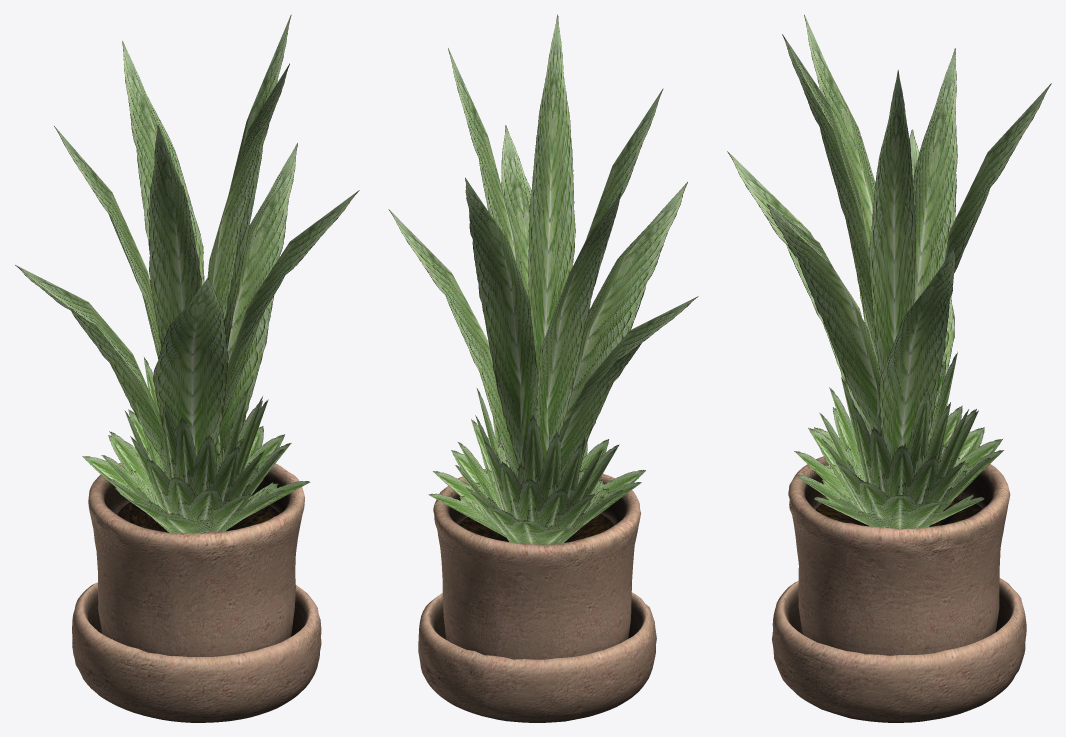
The model's file is Low-Poly Plant_.obj.
The picture shows the model from 3 angles, left to right: view 1: azimuth 30°, elevation 25°; view 2: azimuth 150°, elevation 25°; view 3: azimuth 270°, elevation 25°; orthographic projection. The views are drawn at different scales.
Visible parts, largest first — view 1: Low-Poly_Plant_.001, Low-Poly_Plant_; view 2: Low-Poly_Plant_.001, Low-Poly_Plant_; view 3: Low-Poly_Plant_.001, Low-Poly_Plant_.
Boxes of the visible parts, x1,y1,x2,y2 form: Low-Poly_Plant_.001: [15, 14, 359, 533]; Low-Poly_Plant_: [72, 462, 321, 722]; Low-Poly_Plant_.001: [388, 14, 698, 544]; Low-Poly_Plant_: [418, 469, 656, 722]; Low-Poly_Plant_.001: [727, 14, 1051, 528]; Low-Poly_Plant_: [772, 456, 1026, 722].
Bounding box in the file's own units: 0.6533 × 1.35 × 0.5929.
2 materials, 2 textured.
